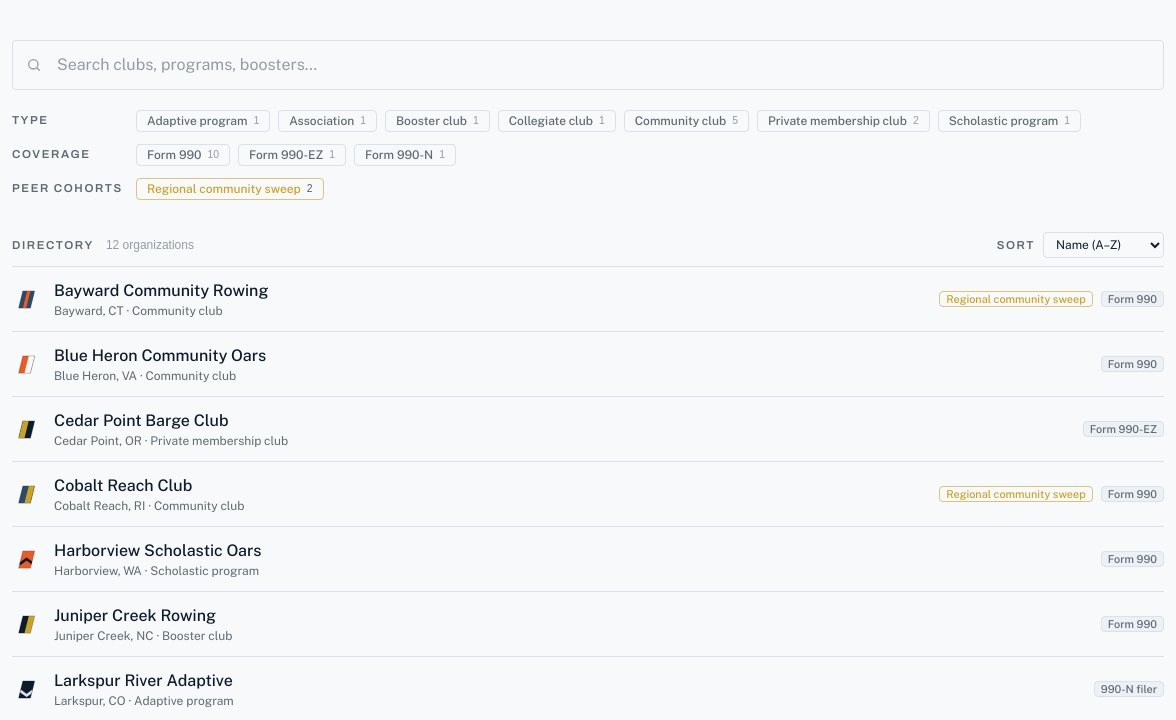
Test: DirectoryExplorer › narrows results with a filter chip
Step 1. Click the button "Community club 5" → [686, 121], box [624,110,749,132]
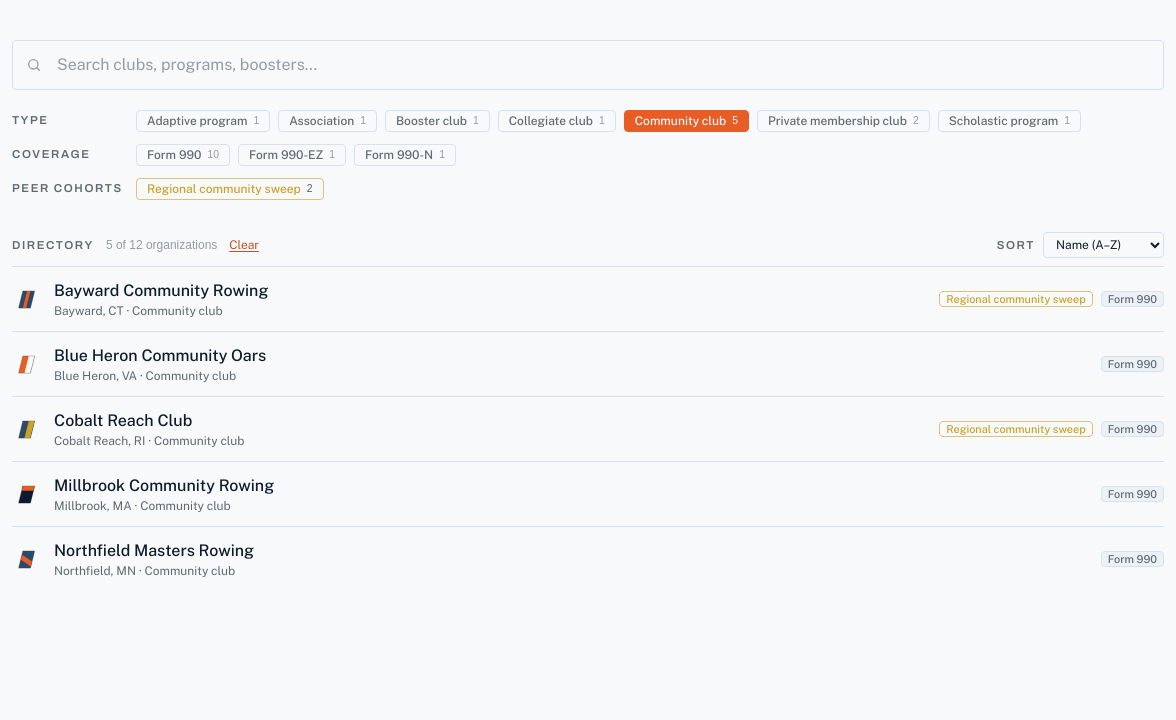
Expected: the text "Millbrook Community Rowing" is shown, [54,476,274,495]
Now the text "5 of 12 organizations" is shown, box [106,237,217,253]
Now the link "Cedar Point Barge Club" is gone
